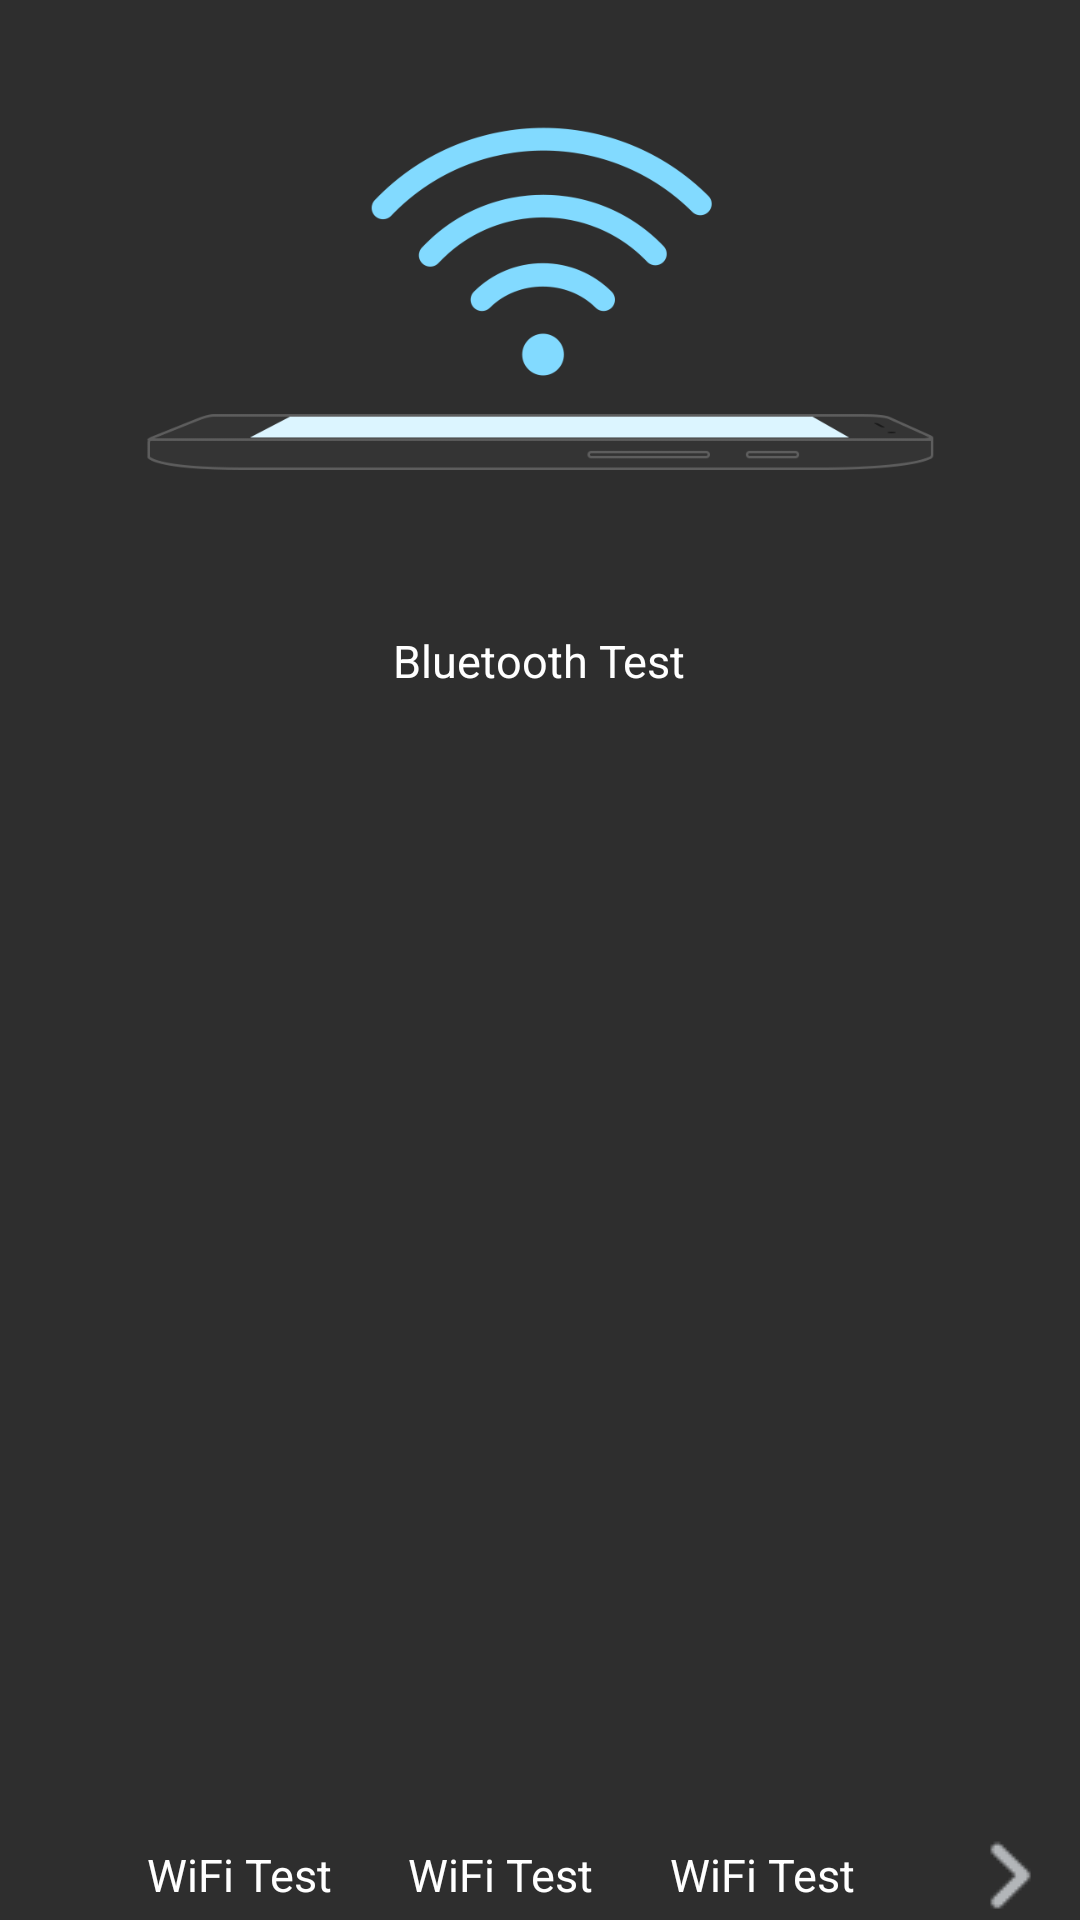

Where to tap for icons on this 1080px×1920px app screen, as point (x, y):
asus diagnostic next: point (1010, 1875)
